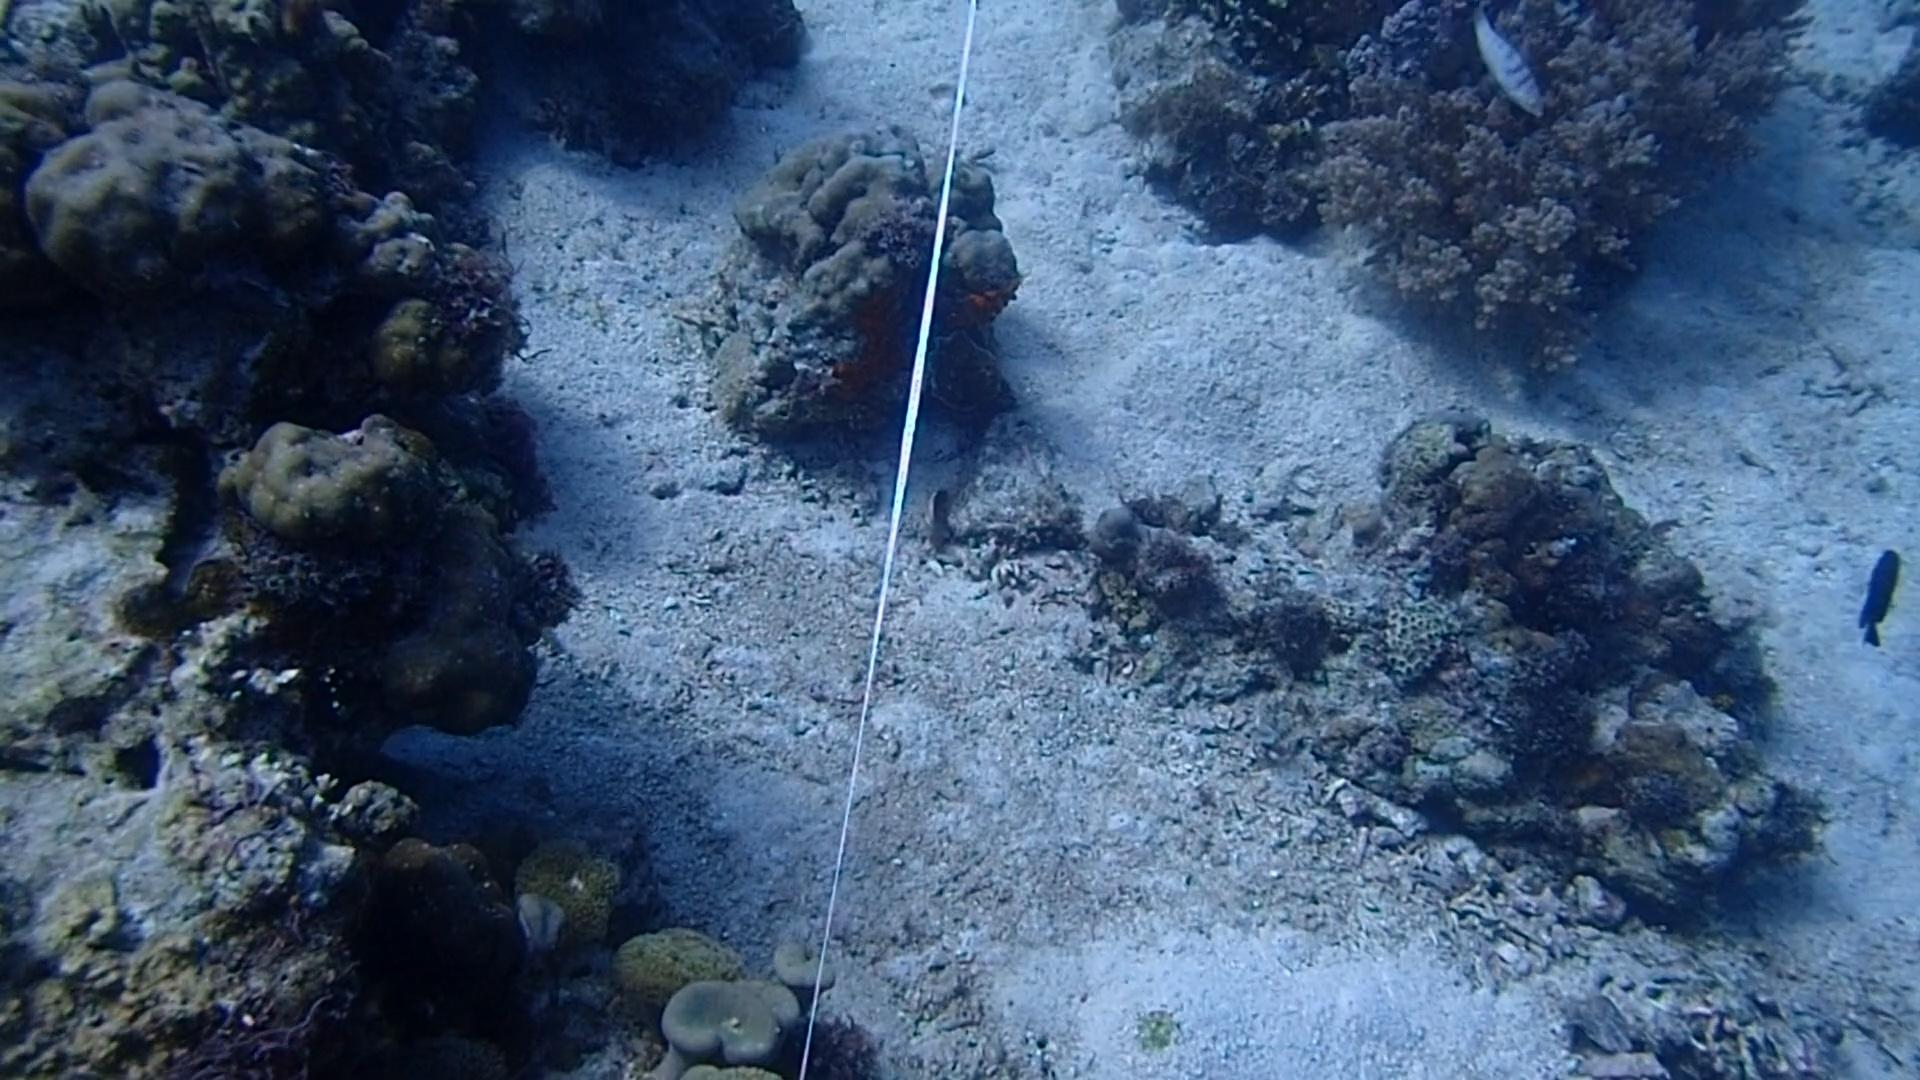Dark Fish: (1850, 542, 1913, 651)
Light Fish w Back Stripes: (1458, 9, 1560, 116)
